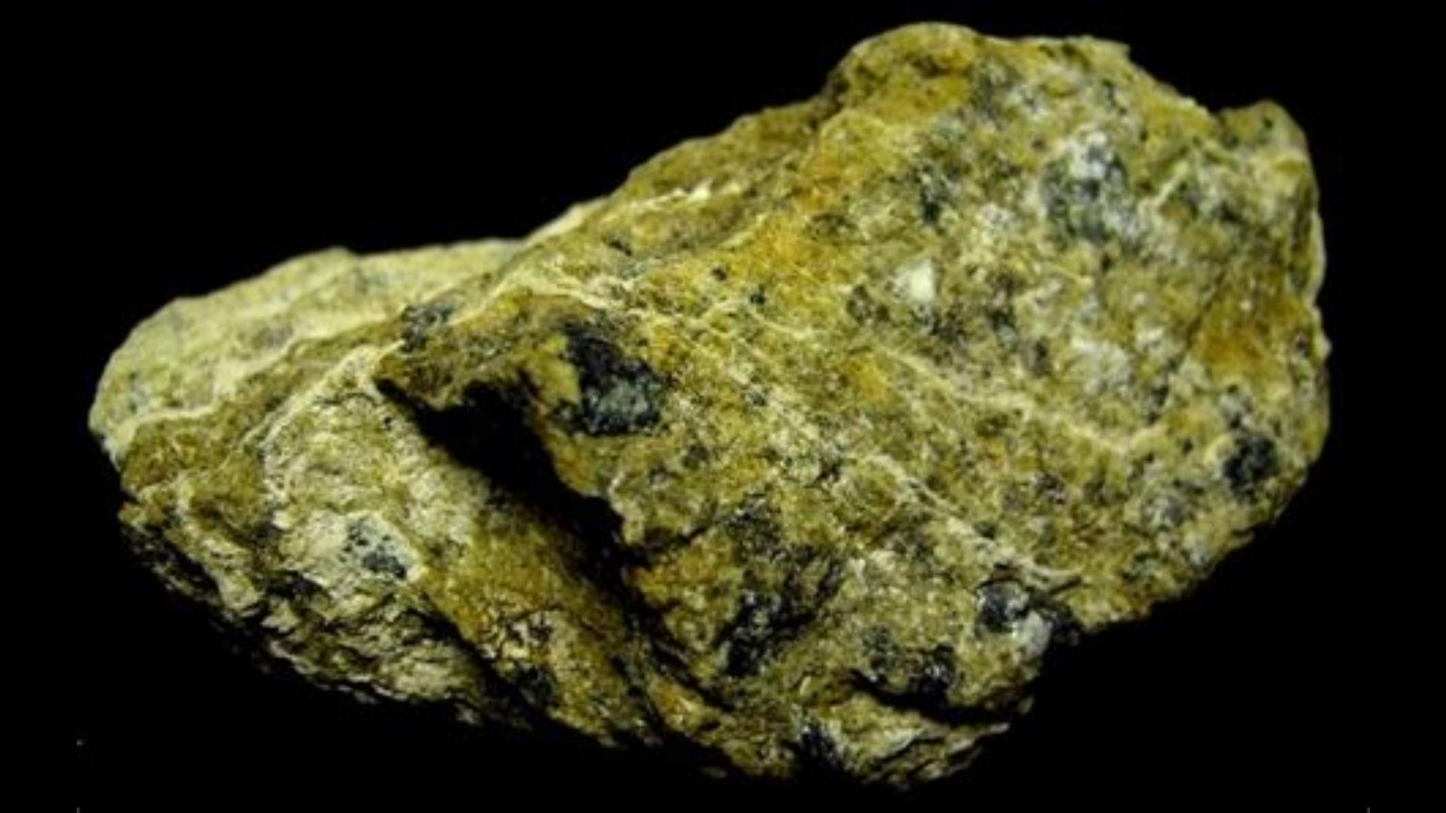rock: (92, 27, 1315, 780)
